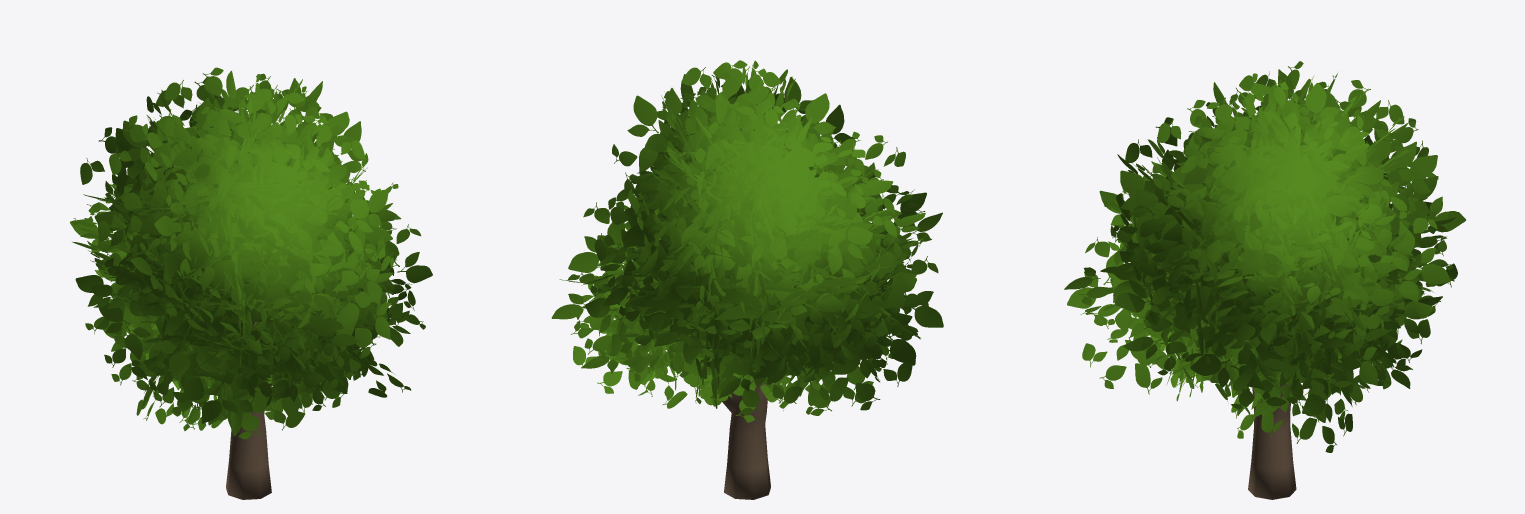
The model's file is tree.fbx.
3 renders of one model, left to right at view 1: azimuth 30°, elevation 25°; view 2: azimuth 150°, elevation 25°; view 3: azimuth 270°, elevation 25°, orthographic. The views are drawn at different scales.
Visible parts, largest first — view 1: 平面.043, 柱体.002; view 2: 平面.043, 柱体.002; view 3: 平面.043, 柱体.002.
Part boxes in pixels (x1=…): 平面.043: x1=70, y1=67, x2=432, y2=439; 柱体.002: x1=226, y1=322, x2=271, y2=499; 平面.043: x1=551, y1=60, x2=943, y2=422; 柱体.002: x1=722, y1=381, x2=770, y2=499; 平面.043: x1=1064, y1=61, x2=1465, y2=452; 柱体.002: x1=1248, y1=381, x2=1296, y2=499.
Size of the model in its own units: 24.54 by 24.57 by 25.31.
